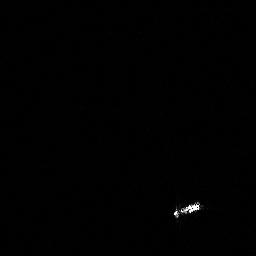ship: (170, 201, 200, 216)
